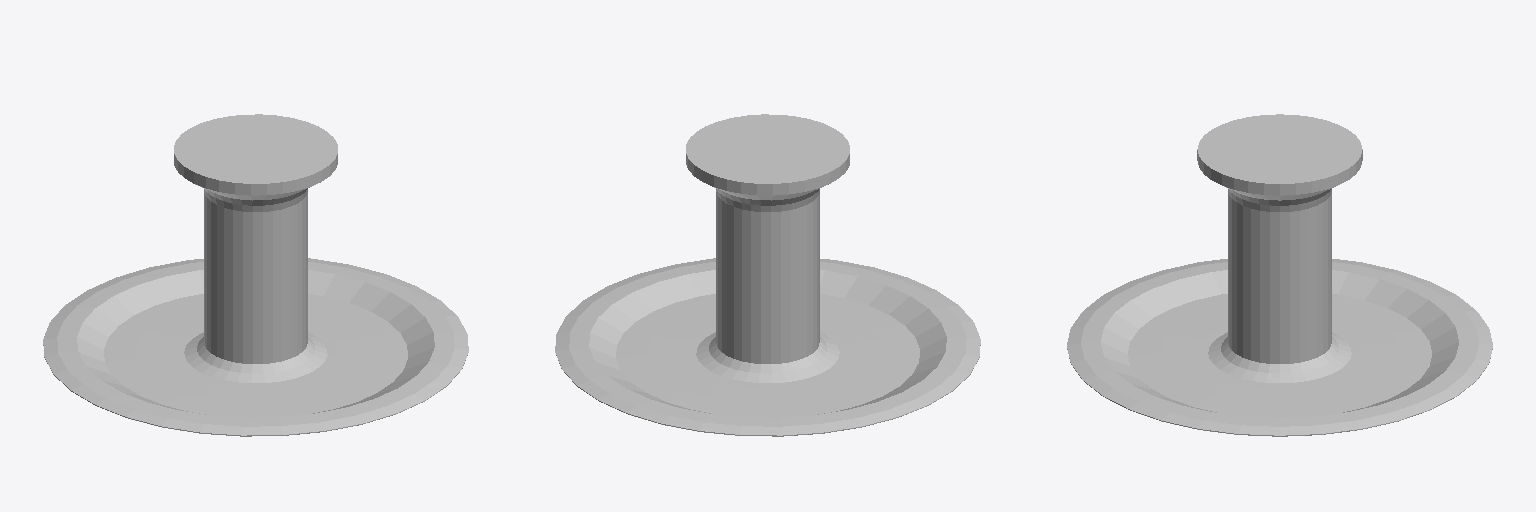
Rendered from candle_holder.obj.
The picture shows the model from 3 angles: view 1: azimuth 30°, elevation 25°; view 2: azimuth 150°, elevation 25°; view 3: azimuth 270°, elevation 25°; orthographic projection.
Parts seen in each view (by area): view 1: Cylindre; view 2: Cylindre; view 3: Cylindre.
Boxes of the visible parts, box(x1,y1,x2,y2) form: Cylindre: box(43, 114, 468, 436); Cylindre: box(555, 114, 980, 436); Cylindre: box(1067, 114, 1492, 436).
Size of the model in its own units: 0.0989 by 0.0546 by 0.0989.